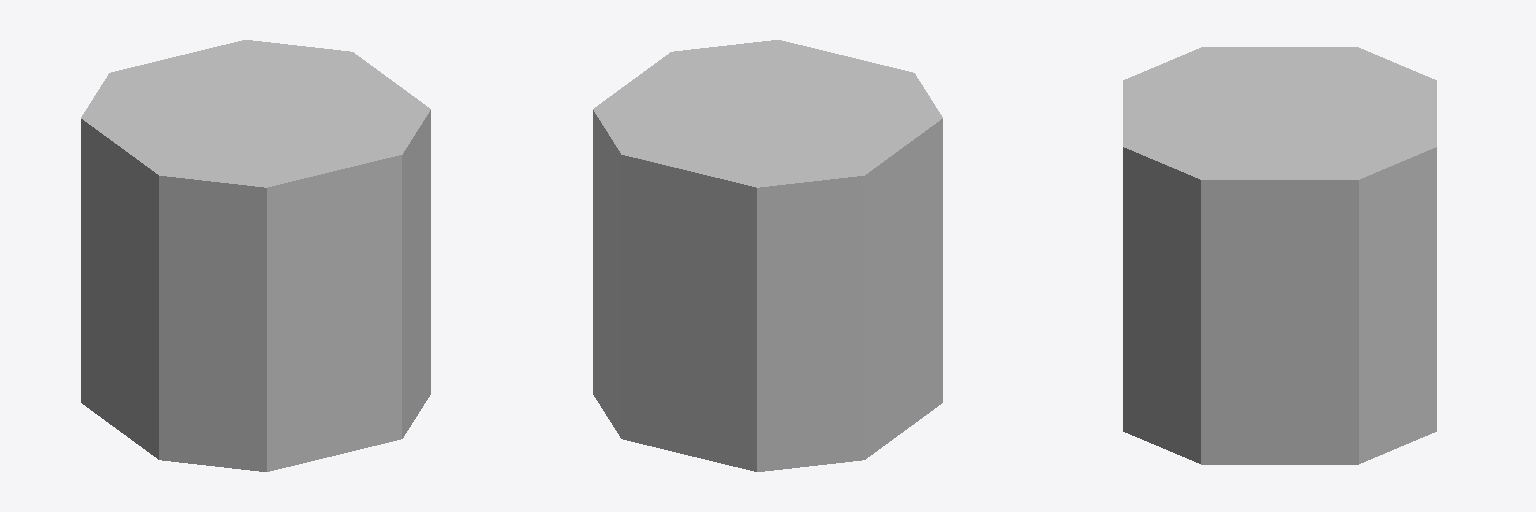
Rendered from uppertank.obj.
3 views of the same model, side by side, from view 1: azimuth 30°, elevation 25°; view 2: azimuth 150°, elevation 25°; view 3: azimuth 270°, elevation 25° (orthographic).
Parts seen in each view (by area): view 1: tank; view 2: tank; view 3: tank.
Boxes of the visible parts, <box> form: tank: <box>81,40,430,471</box>; tank: <box>593,40,942,471</box>; tank: <box>1123,47,1436,464</box>.
Bounding box in the file's own units: 1 × 1 × 1.